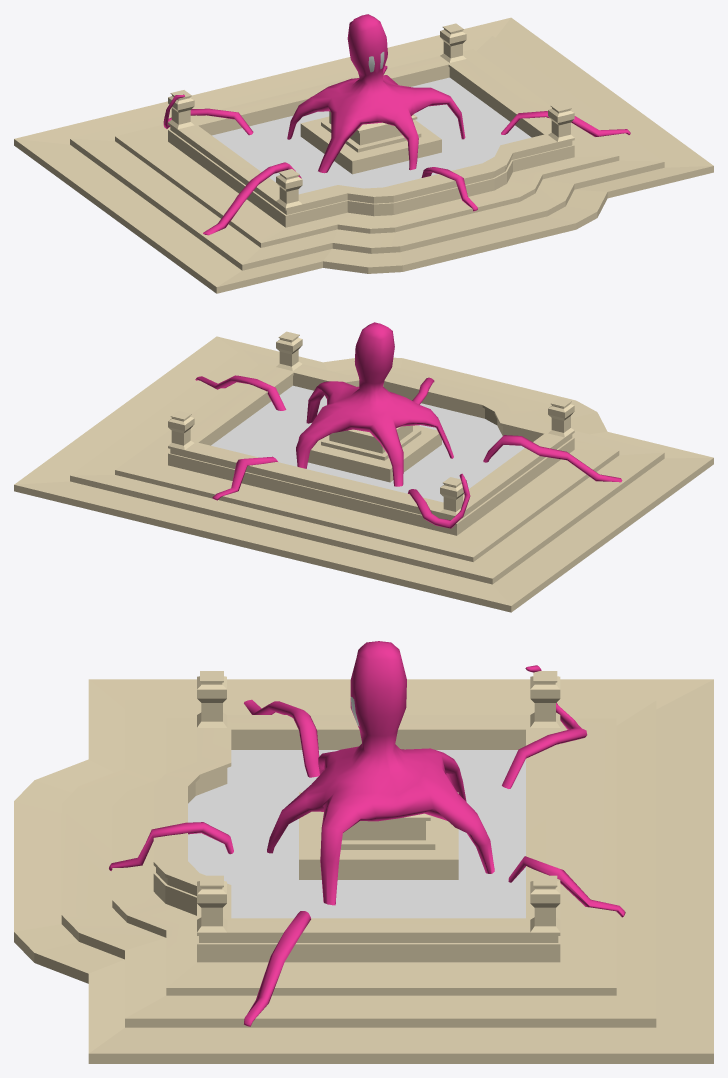
Rendered from Fontaine.fbx.
3 renders of one model, top to bottom at view 1: azimuth 30°, elevation 25°; view 2: azimuth 150°, elevation 25°; view 3: azimuth 270°, elevation 25°, orthographic. The views are drawn at different scales.
Visible parts, largest first — view 1: Fontaine, Poulpe; view 2: Fontaine, Poulpe; view 3: Fontaine, Poulpe.
Part boxes in pixels (bbox=[...]): Fontaine: bbox=[14, 17, 713, 293]; Poulpe: bbox=[163, 14, 630, 235]; Fontaine: bbox=[14, 331, 713, 612]; Poulpe: bbox=[195, 322, 622, 528]; Fontaine: bbox=[14, 671, 713, 1063]; Poulpe: bbox=[109, 641, 625, 1026].
Size of the model in its own units: 1674 by 606 by 2118.
